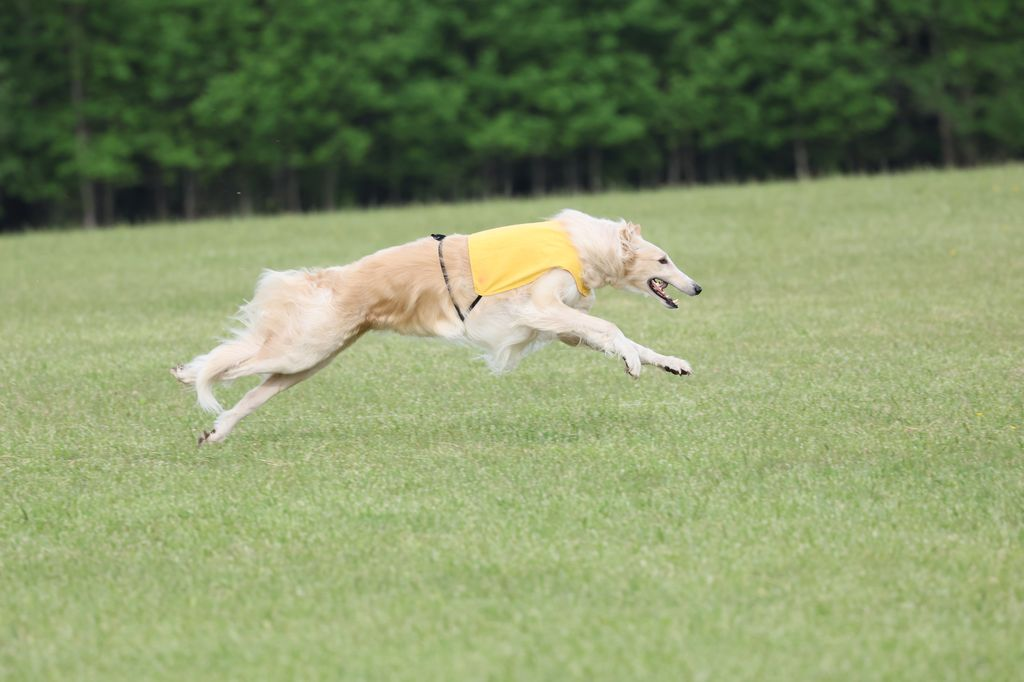borzoi: (115, 198, 756, 450)
